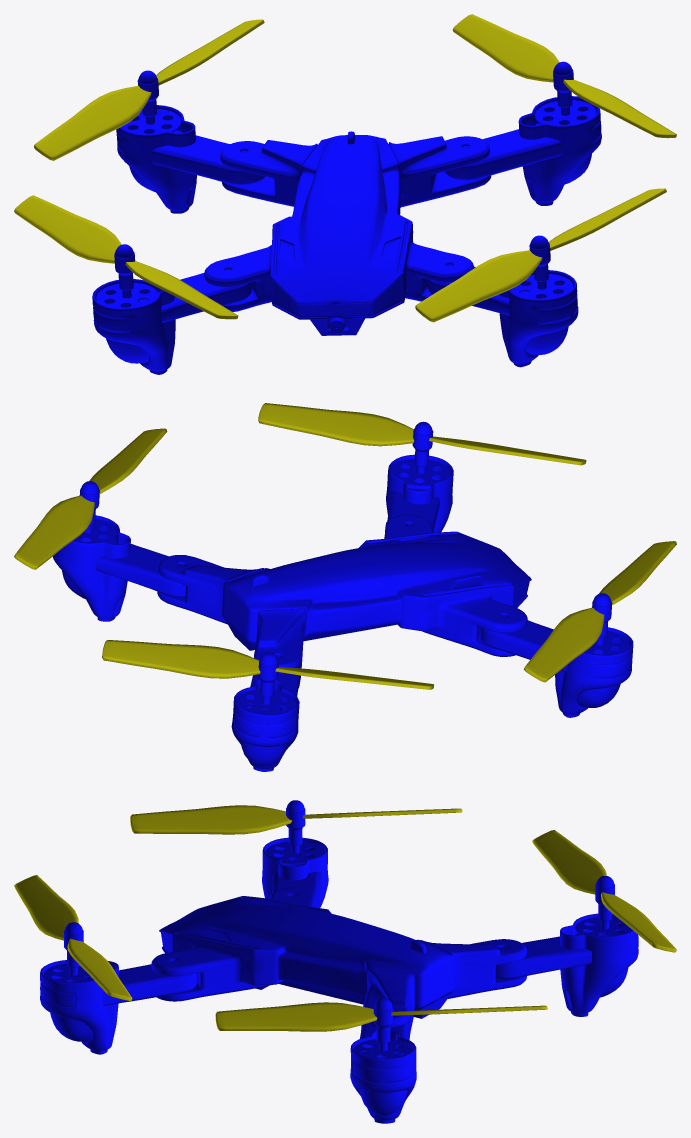
Rendered from demo7.obj.
The picture shows the model from 3 angles, top to bottom: view 1: azimuth 30°, elevation 25°; view 2: azimuth 150°, elevation 25°; view 3: azimuth 270°, elevation 25°; orthographic projection. The views are drawn at different scales.
Visible parts, largest first — view 1: Obj3d66_1276648_44_547, Obj3d66_1276648_63_703, Obj3d66_1276648_80_94, Obj3d66_1276648_78_945, Obj3d66_1276648_74_741, Obj3d66_1276648_52_471, Obj3d66_1276648_76_362, Obj3d66_1276648_73_8, Obj3d66_1276648_77_860, Obj3d66_1276648_60_302, Obj3d66_1276648_59_645, Obj3d66_1276648_70_661 (+15 smaller); view 2: Obj3d66_1276648_44_547, Obj3d66_1276648_82_509, Obj3d66_1276648_75_883, Obj3d66_1276648_63_703, Obj3d66_1276648_80_94, Obj3d66_1276648_73_8, Obj3d66_1276648_77_860, Obj3d66_1276648_78_945, Obj3d66_1276648_60_302, Obj3d66_1276648_52_471, Obj3d66_1276648_70_661, Obj3d66_1276648_72_557 (+13 smaller); view 3: Obj3d66_1276648_44_547, Obj3d66_1276648_78_945, Obj3d66_1276648_70_661, Obj3d66_1276648_72_557, Obj3d66_1276648_52_471, Obj3d66_1276648_63_703, Obj3d66_1276648_76_362, Obj3d66_1276648_59_645, Obj3d66_1276648_74_741, Obj3d66_1276648_51_655, Obj3d66_1276648_80_94, Obj3d66_1276648_75_883 (+13 smaller).
Part boxes in pixels (x1,y1,x2,y2): Obj3d66_1276648_44_547: (204,135,491,319); Obj3d66_1276648_63_703: (518,96,601,205); Obj3d66_1276648_80_94: (92,279,175,374); Obj3d66_1276648_78_945: (116,105,196,213); Obj3d66_1276648_74_741: (415,250,542,322); Obj3d66_1276648_52_471: (499,270,578,367); Obj3d66_1276648_76_362: (34,85,151,160); Obj3d66_1276648_73_8: (14,195,121,263); Obj3d66_1276648_77_860: (452,14,559,82); Obj3d66_1276648_60_302: (444,123,562,180); Obj3d66_1276648_59_645: (151,130,265,185); Obj3d66_1276648_70_661: (563,79,676,138); Obj3d66_1276648_44_547: (157,514,531,687); Obj3d66_1276648_82_509: (102,640,260,678); Obj3d66_1276648_75_883: (258,403,414,446); Obj3d66_1276648_63_703: (53,515,130,621); Obj3d66_1276648_80_94: (555,627,633,717); Obj3d66_1276648_73_8: (523,607,604,682); Obj3d66_1276648_77_860: (14,495,94,569); Obj3d66_1276648_78_945: (231,679,299,771); Obj3d66_1276648_60_302: (95,538,185,597); Obj3d66_1276648_52_471: (386,454,453,532); Obj3d66_1276648_70_661: (89,428,167,493); Obj3d66_1276648_72_557: (599,541,676,605); Obj3d66_1276648_44_547: (151,887,526,1040); Obj3d66_1276648_78_945: (560,913,638,1016); Obj3d66_1276648_70_661: (215,1002,377,1031); Obj3d66_1276648_72_557: (130,805,291,834); Obj3d66_1276648_52_471: (40,960,118,1054); Obj3d66_1276648_63_703: (350,1030,416,1123); Obj3d66_1276648_76_362: (532,830,606,894); Obj3d66_1276648_59_645: (495,933,591,979); Obj3d66_1276648_74_741: (14,875,78,940); Obj3d66_1276648_51_655: (84,964,196,1005); Obj3d66_1276648_80_94: (262,837,328,908); Obj3d66_1276648_75_883: (67,938,132,1000).
Size of the model in its own units: 184 by 52.49 by 200.
